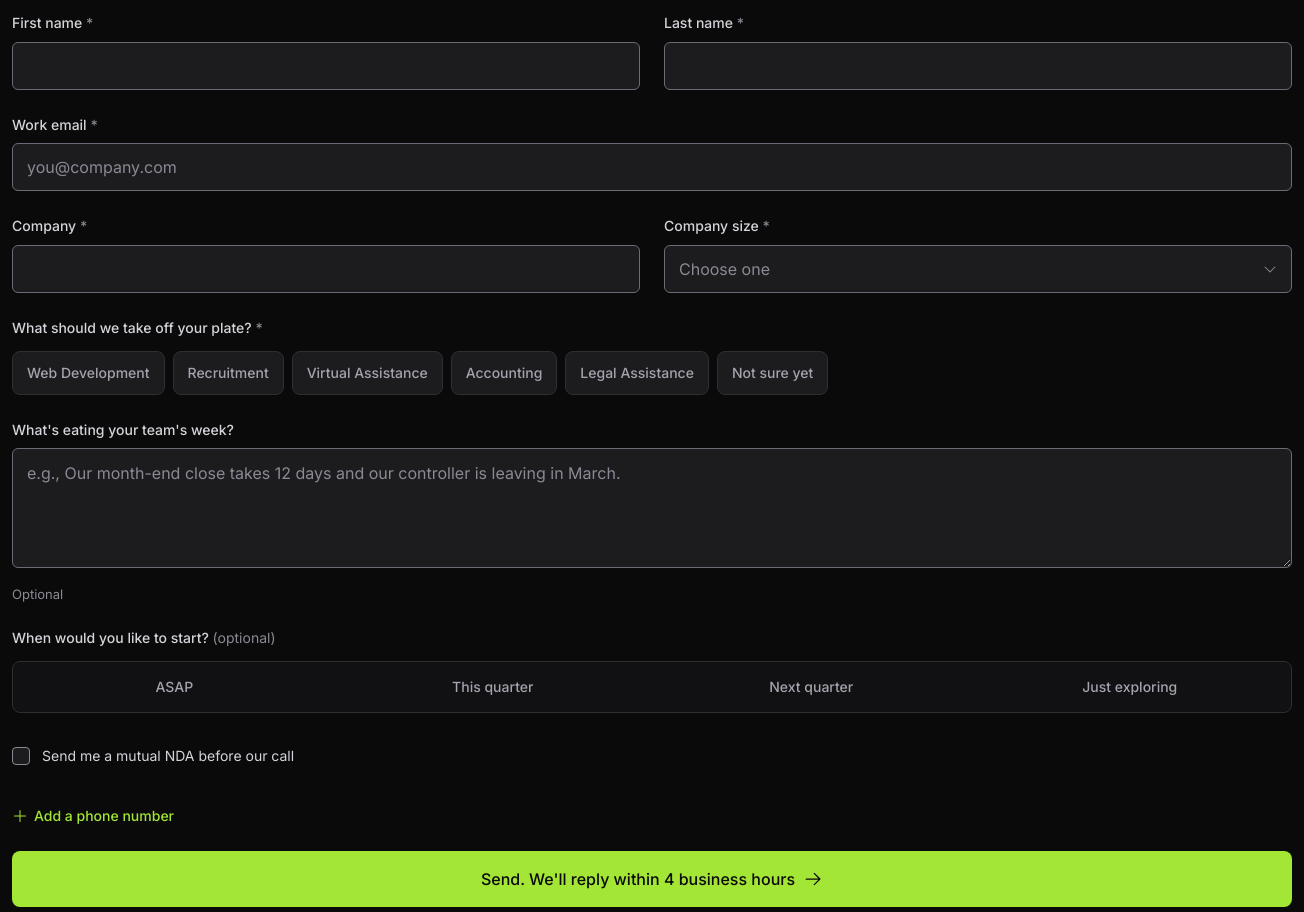
Test: <ContactForm /> › keeps every answer when the server says it didn't send
In the field labelled "First name *": (326, 66) top-left (12, 42), bottom-right (640, 90), type "Dana"
In the field labelled "Last name *": (978, 66) top-left (664, 42), bottom-right (1292, 90), type "Whitfield"
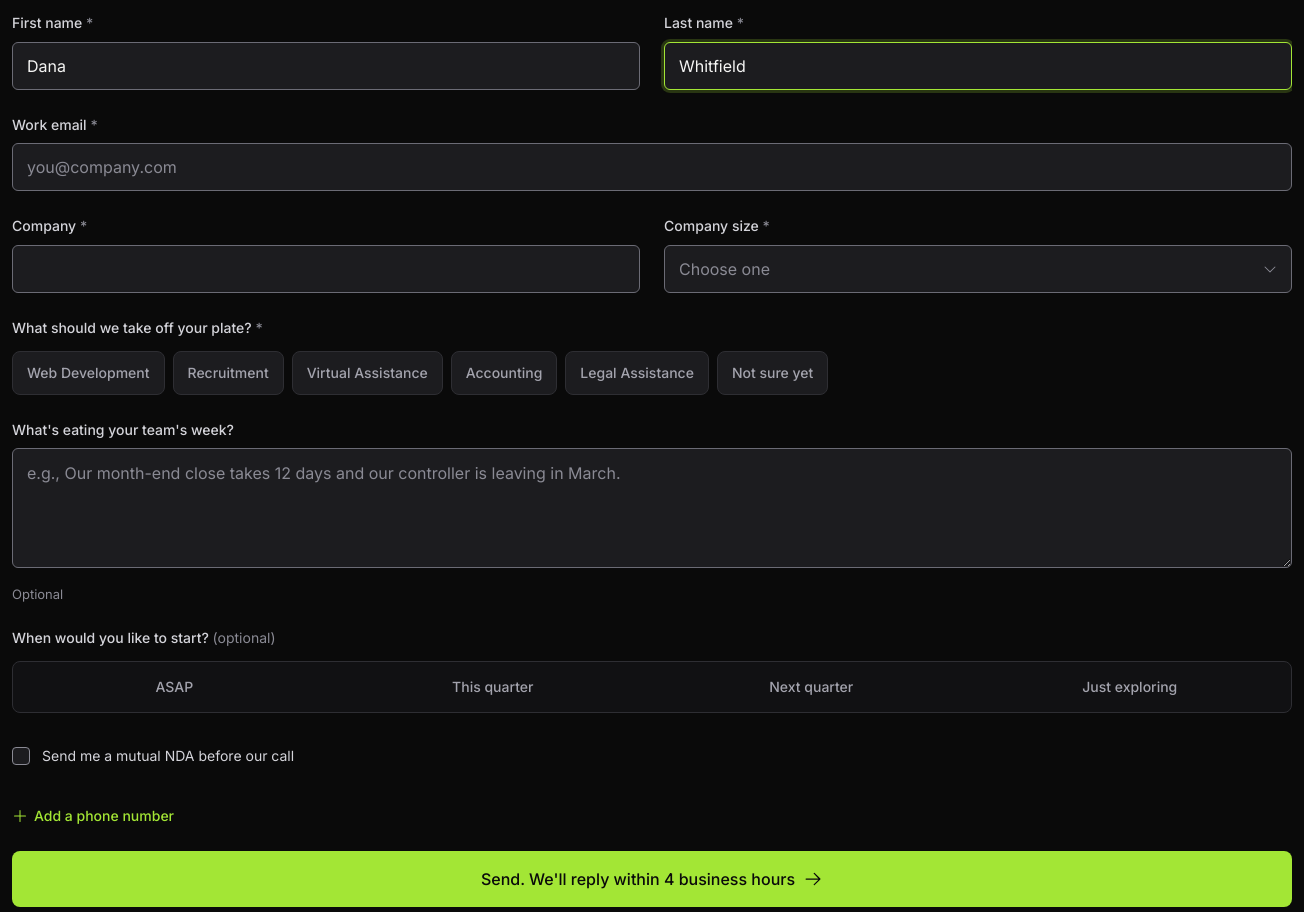
In the field labelled "Work email *": (652, 167) top-left (12, 143), bottom-right (1292, 191), type "dana@tidemark.example"
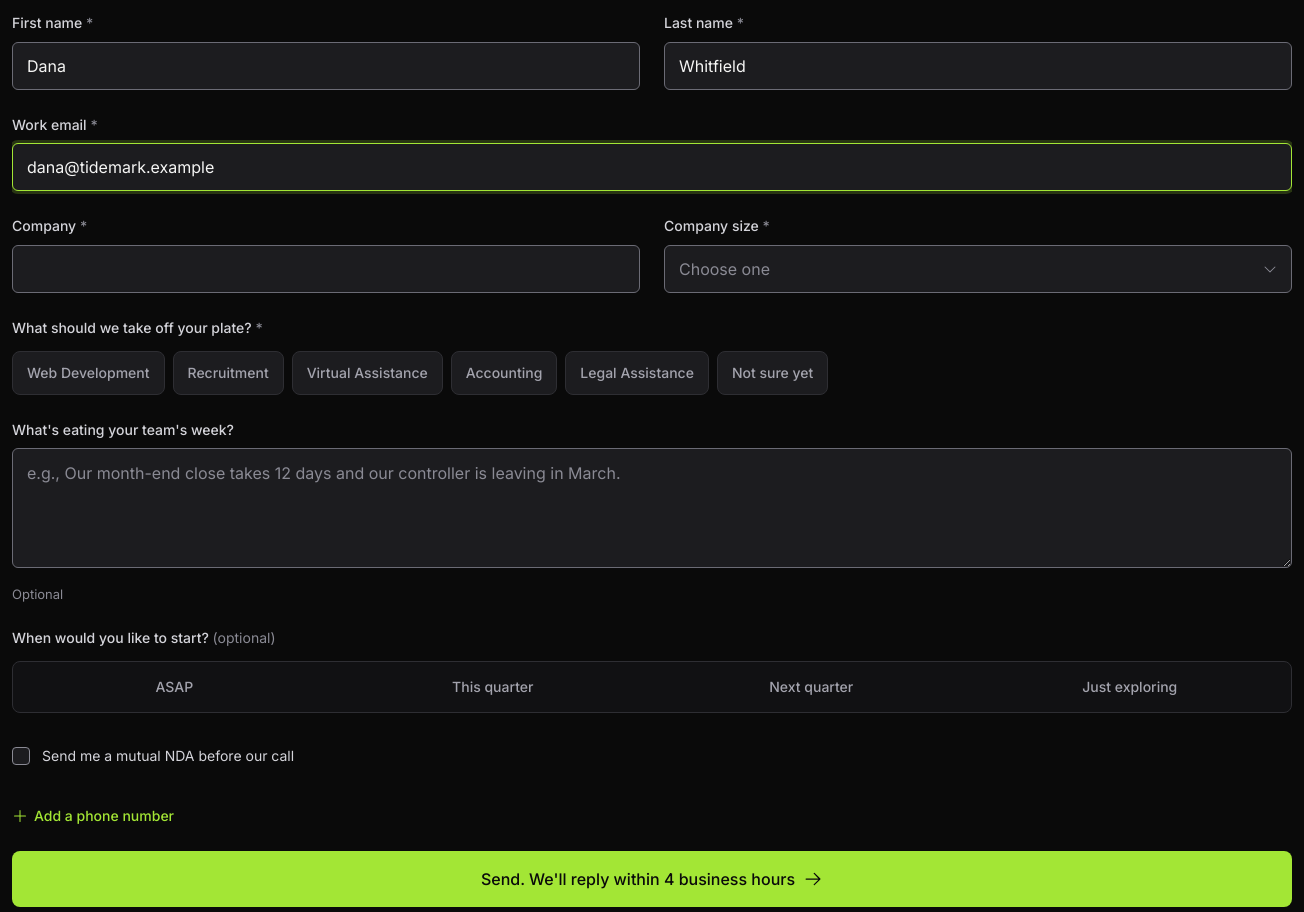
In the field labelled "Company *": (326, 269) top-left (12, 245), bottom-right (640, 293), type "Tidemark"
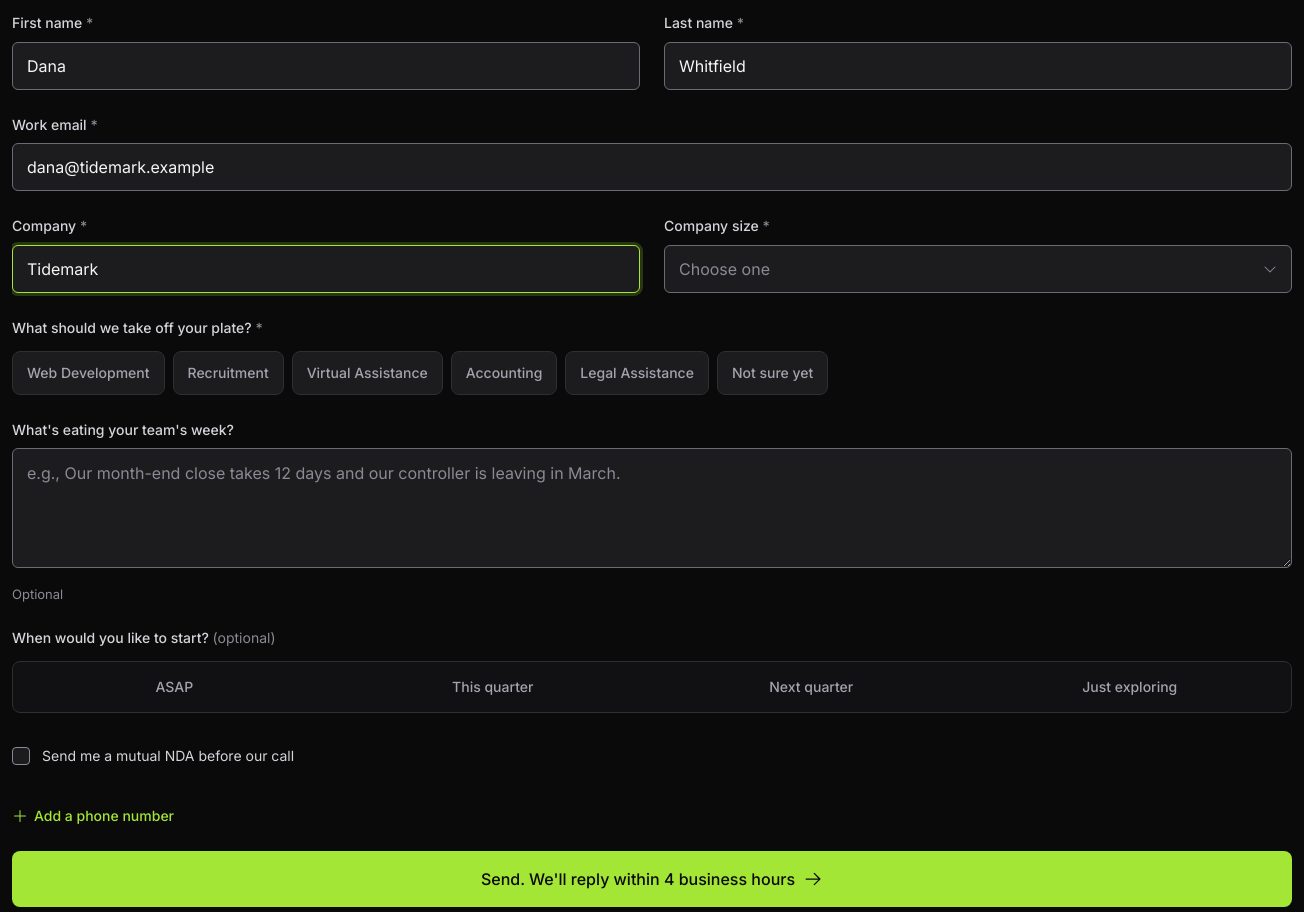
Select "200–499 people" in the dropdown labelled "Company size *": (978, 269) top-left (664, 245), bottom-right (1292, 293)
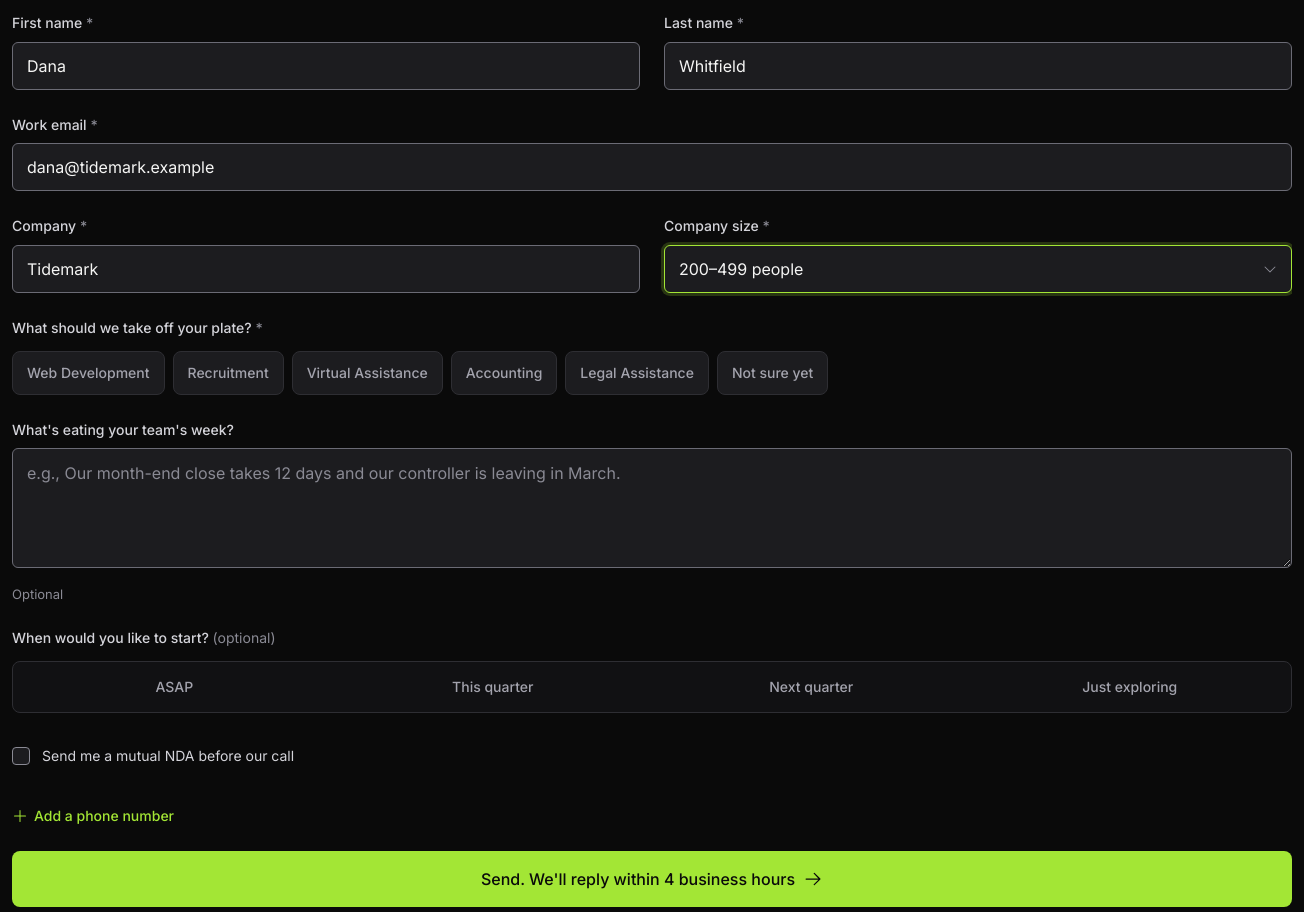
Click the checkbox labelled "Accounting": (504, 373) top-left (451, 351), bottom-right (557, 395)
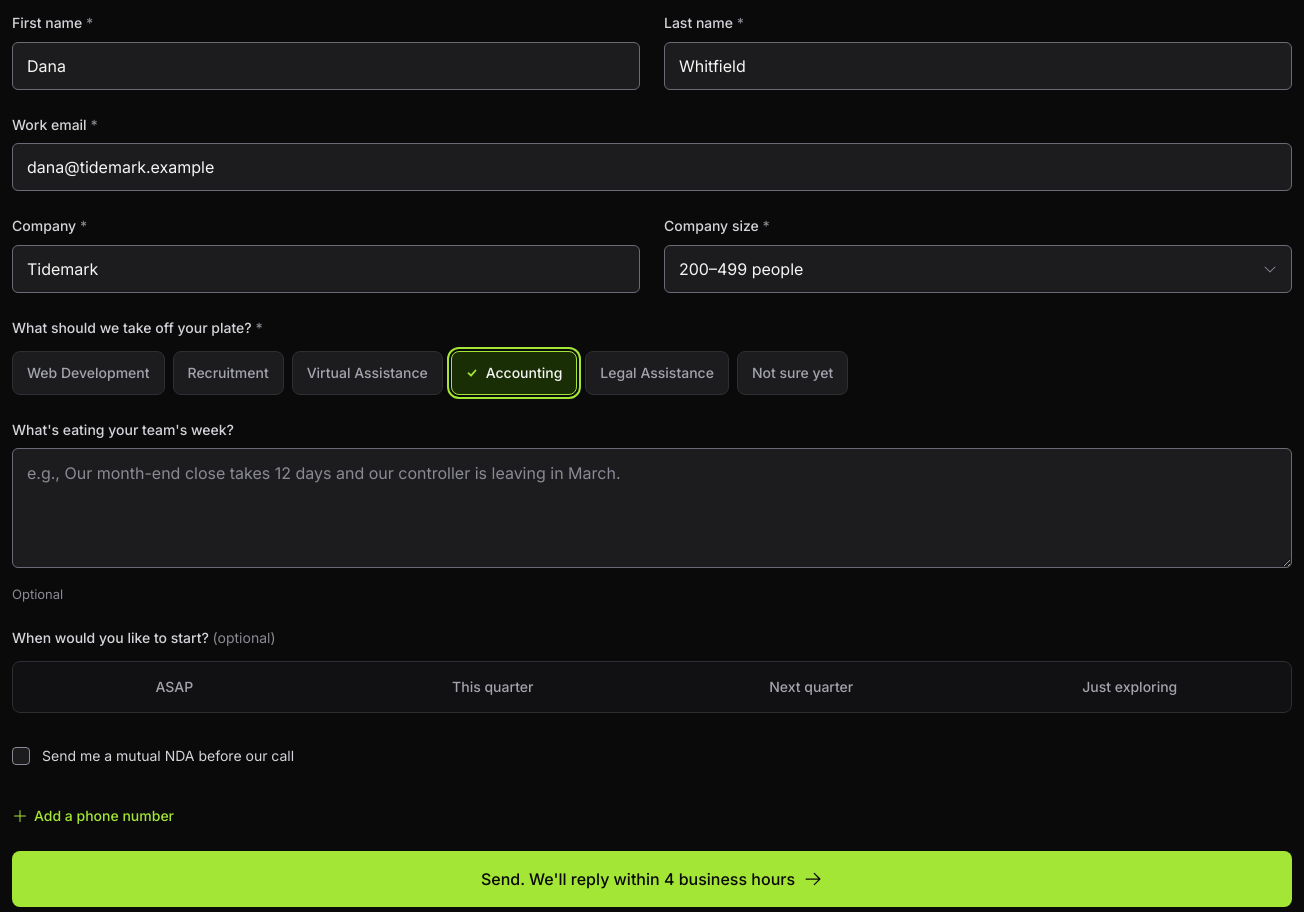
Click the button "Send. We'll reply within 4 business hours": (652, 878) top-left (12, 850), bottom-right (1292, 906)
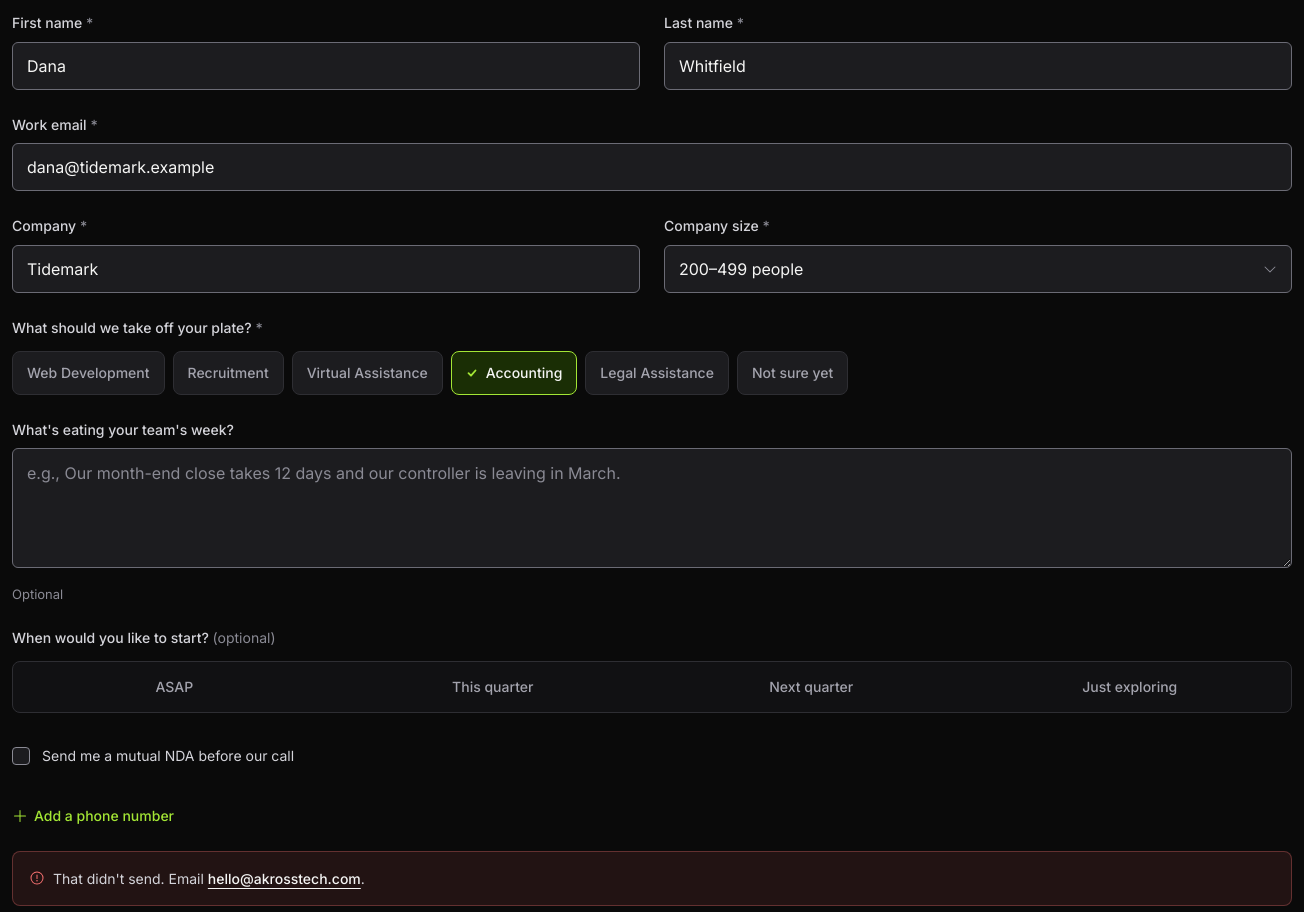
Expected: the checkbox labelled "Accounting" is checked, top-left (451, 351), bottom-right (577, 395)
Expected: the message shows "didn't send", top-left (53, 870), bottom-right (208, 886)
